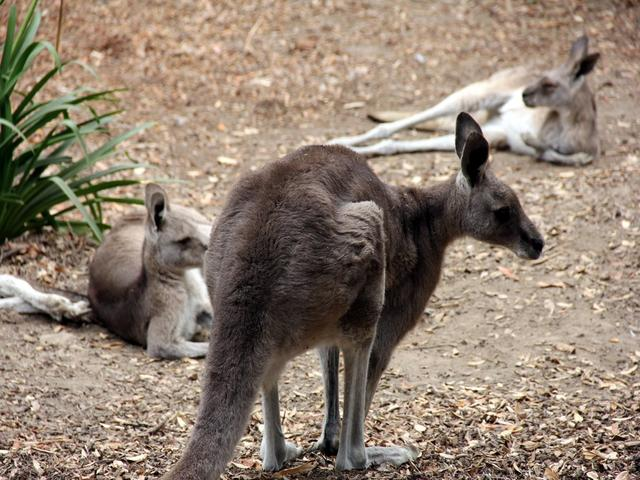kangaroo: (146, 103, 559, 467)
